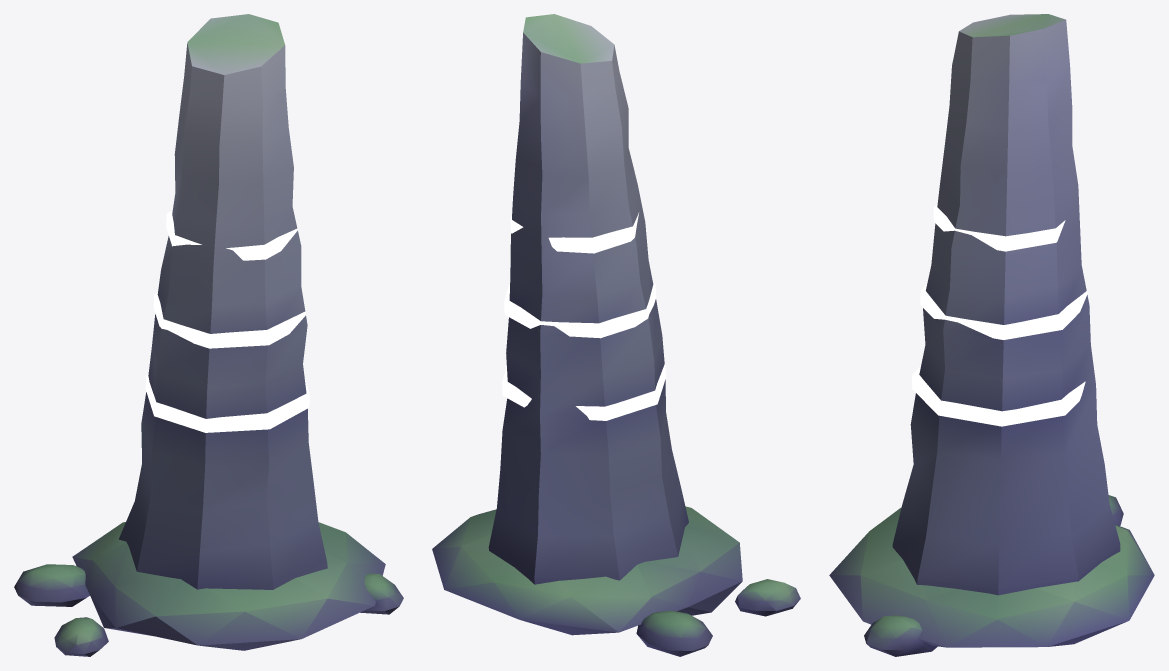
The model's file is hub_rock_menhir_a.glb.
3 views of the same model, side by side, from view 1: azimuth 30°, elevation 25°; view 2: azimuth 150°, elevation 25°; view 3: azimuth 270°, elevation 25° (orthographic). The views are drawn at different scales.
Visible parts, largest first — view 1: hub_rock_menhir_a; view 2: hub_rock_menhir_a; view 3: hub_rock_menhir_a.
Part boxes in pixels (<box>): hub_rock_menhir_a: <box>14,14,403,656</box>; hub_rock_menhir_a: <box>432,14,800,656</box>; hub_rock_menhir_a: <box>829,14,1154,656</box>.
Bounding box in the file's own units: 2.27 × 3.74 × 1.87.
